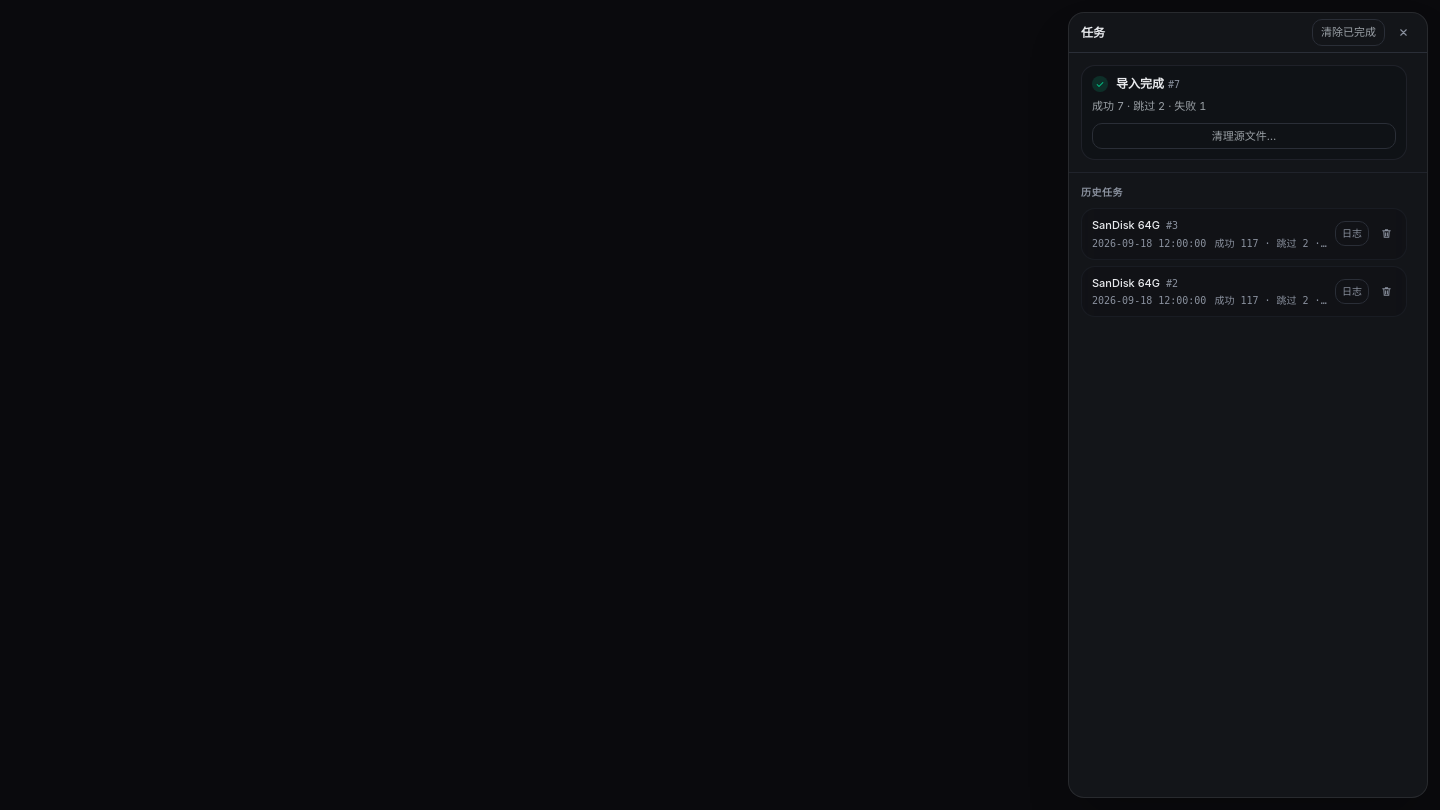
Test case: 任务抽屉：历史区 › 清除已完成：批量 importJobDelete 历史行 + 隐藏本地终态行
Expected: the element with test id "taskdrawer-import" is shown, [1081,65,1407,160]
Click the button with test id "taskdrawer-clear-done" at (1348, 33), box [1312,19,1385,46]
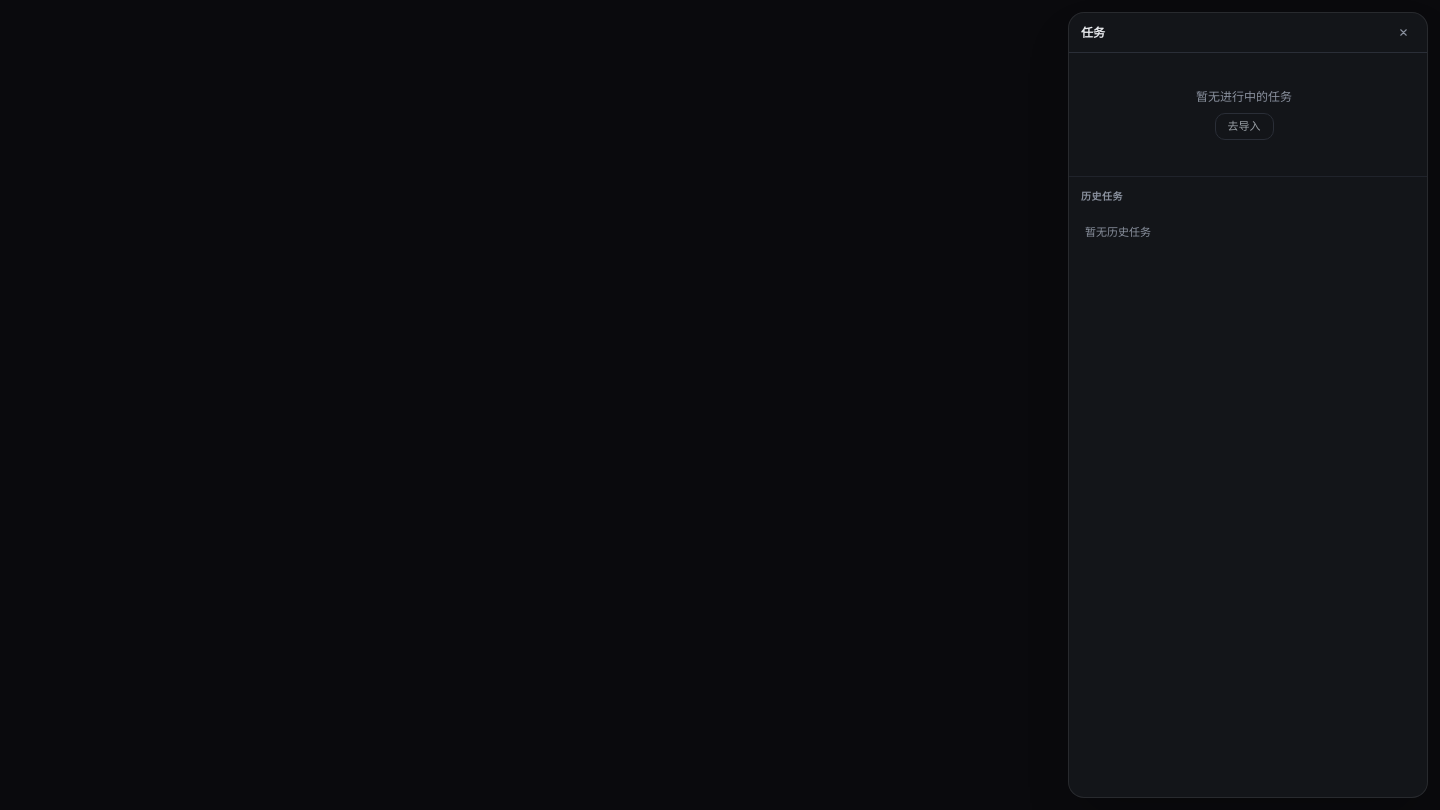
Result: the element with test id "taskdrawer-import" is gone
